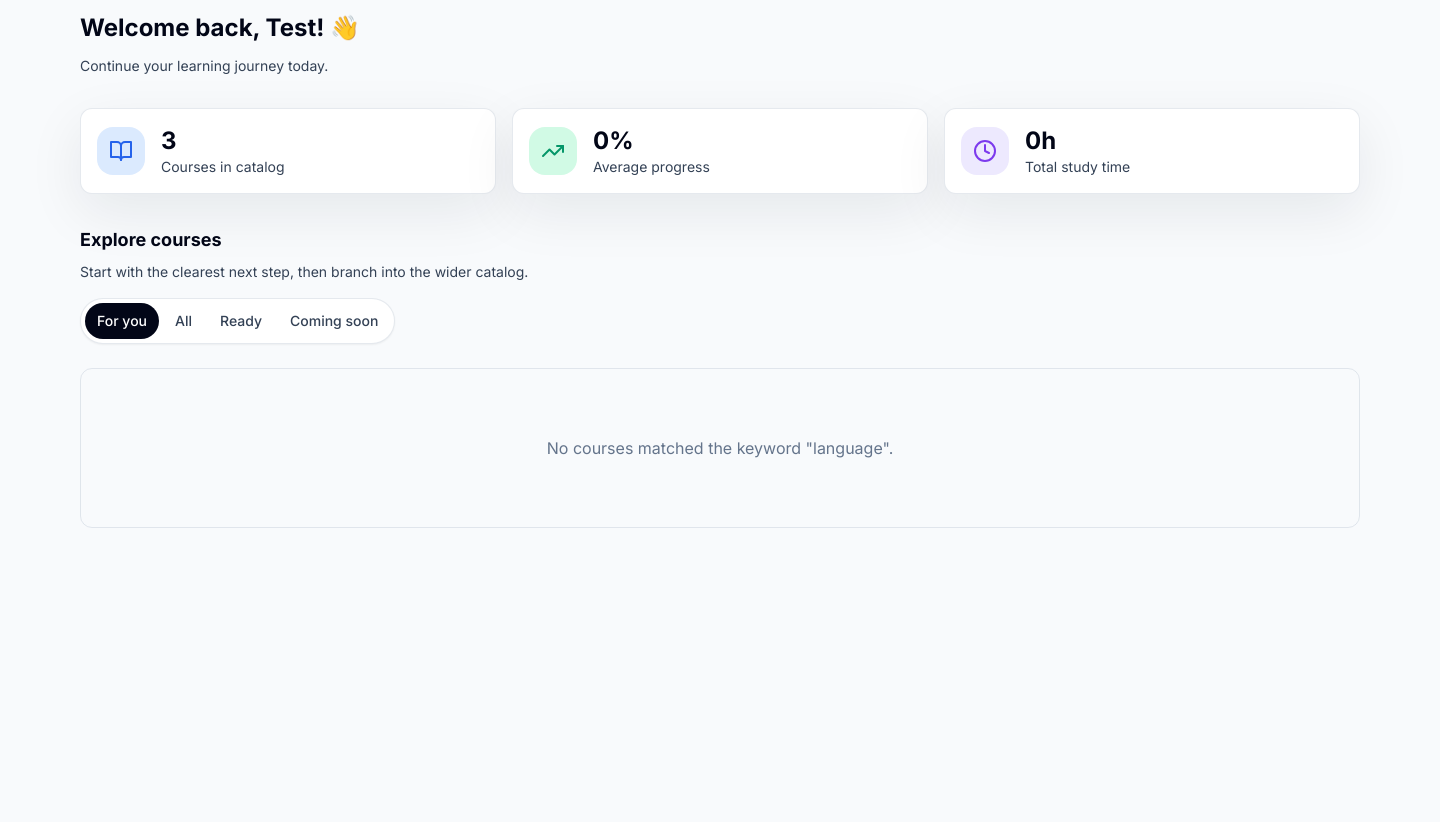
it: dashboard search › filters dashboard courses by the q param
Expected: the heading "Explore courses" is shown, [80,229,222,250]
Click the tab "All" at x=184, y=321, box [163,303,204,339]
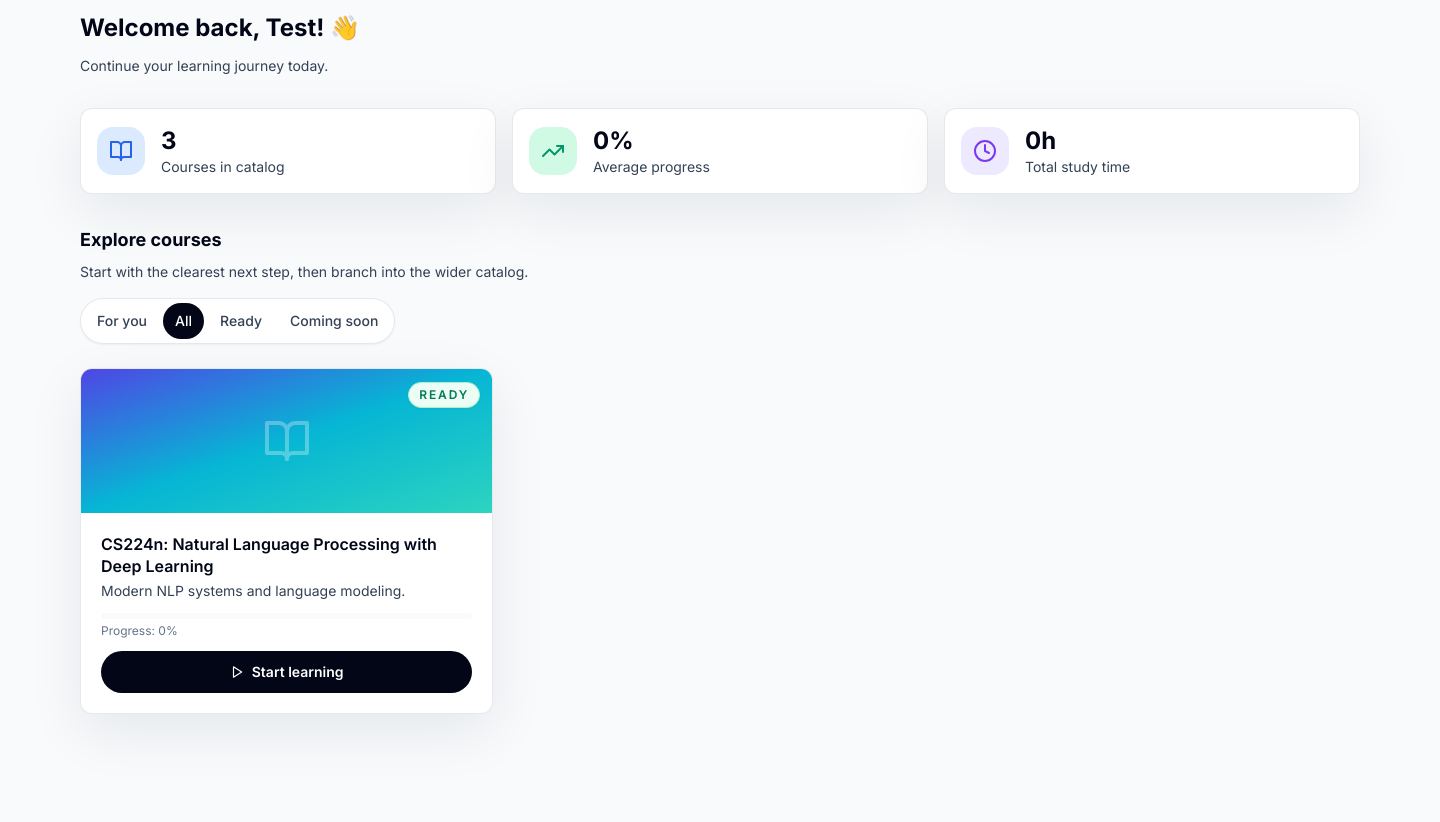
Expected: the heading "CS224n: Natural Language Processing with Deep Learning" is shown, [101,533,472,577]
